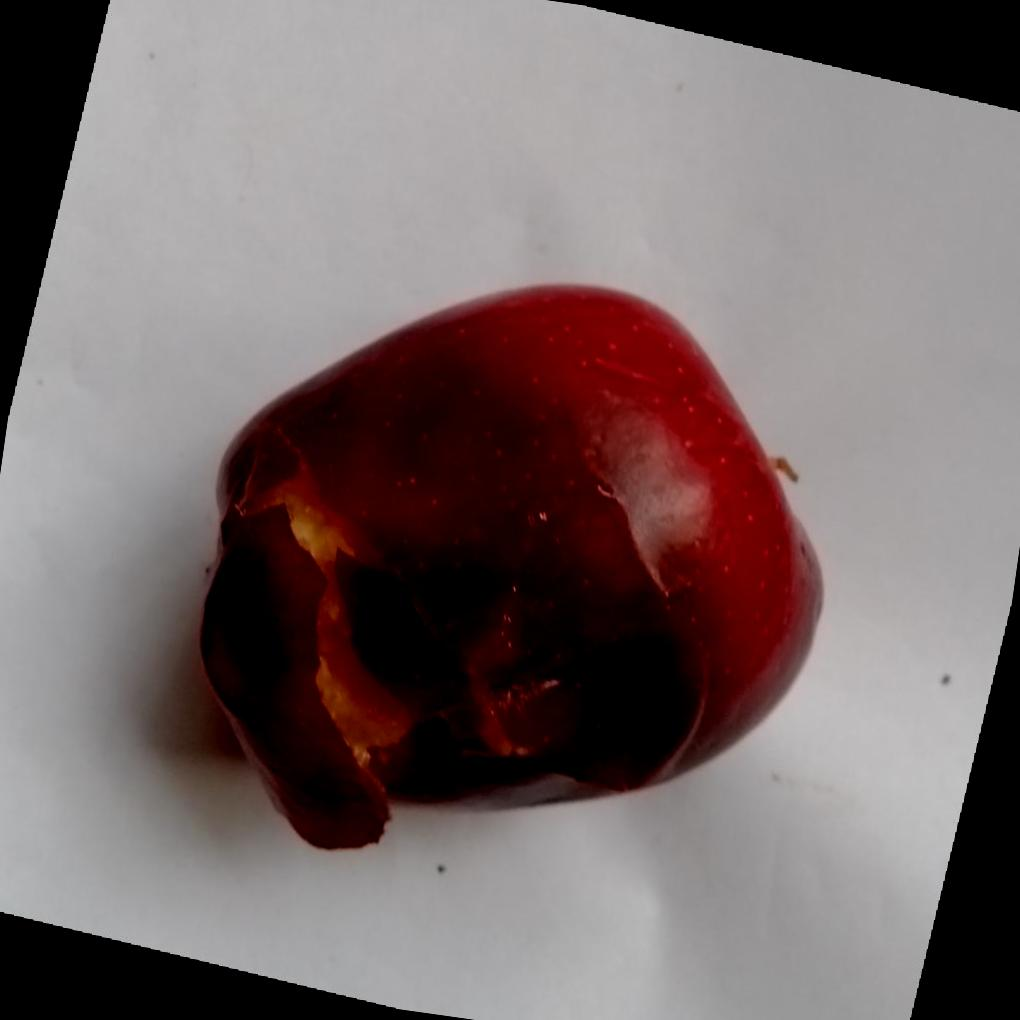FreshOrange: (197, 283, 825, 855)
